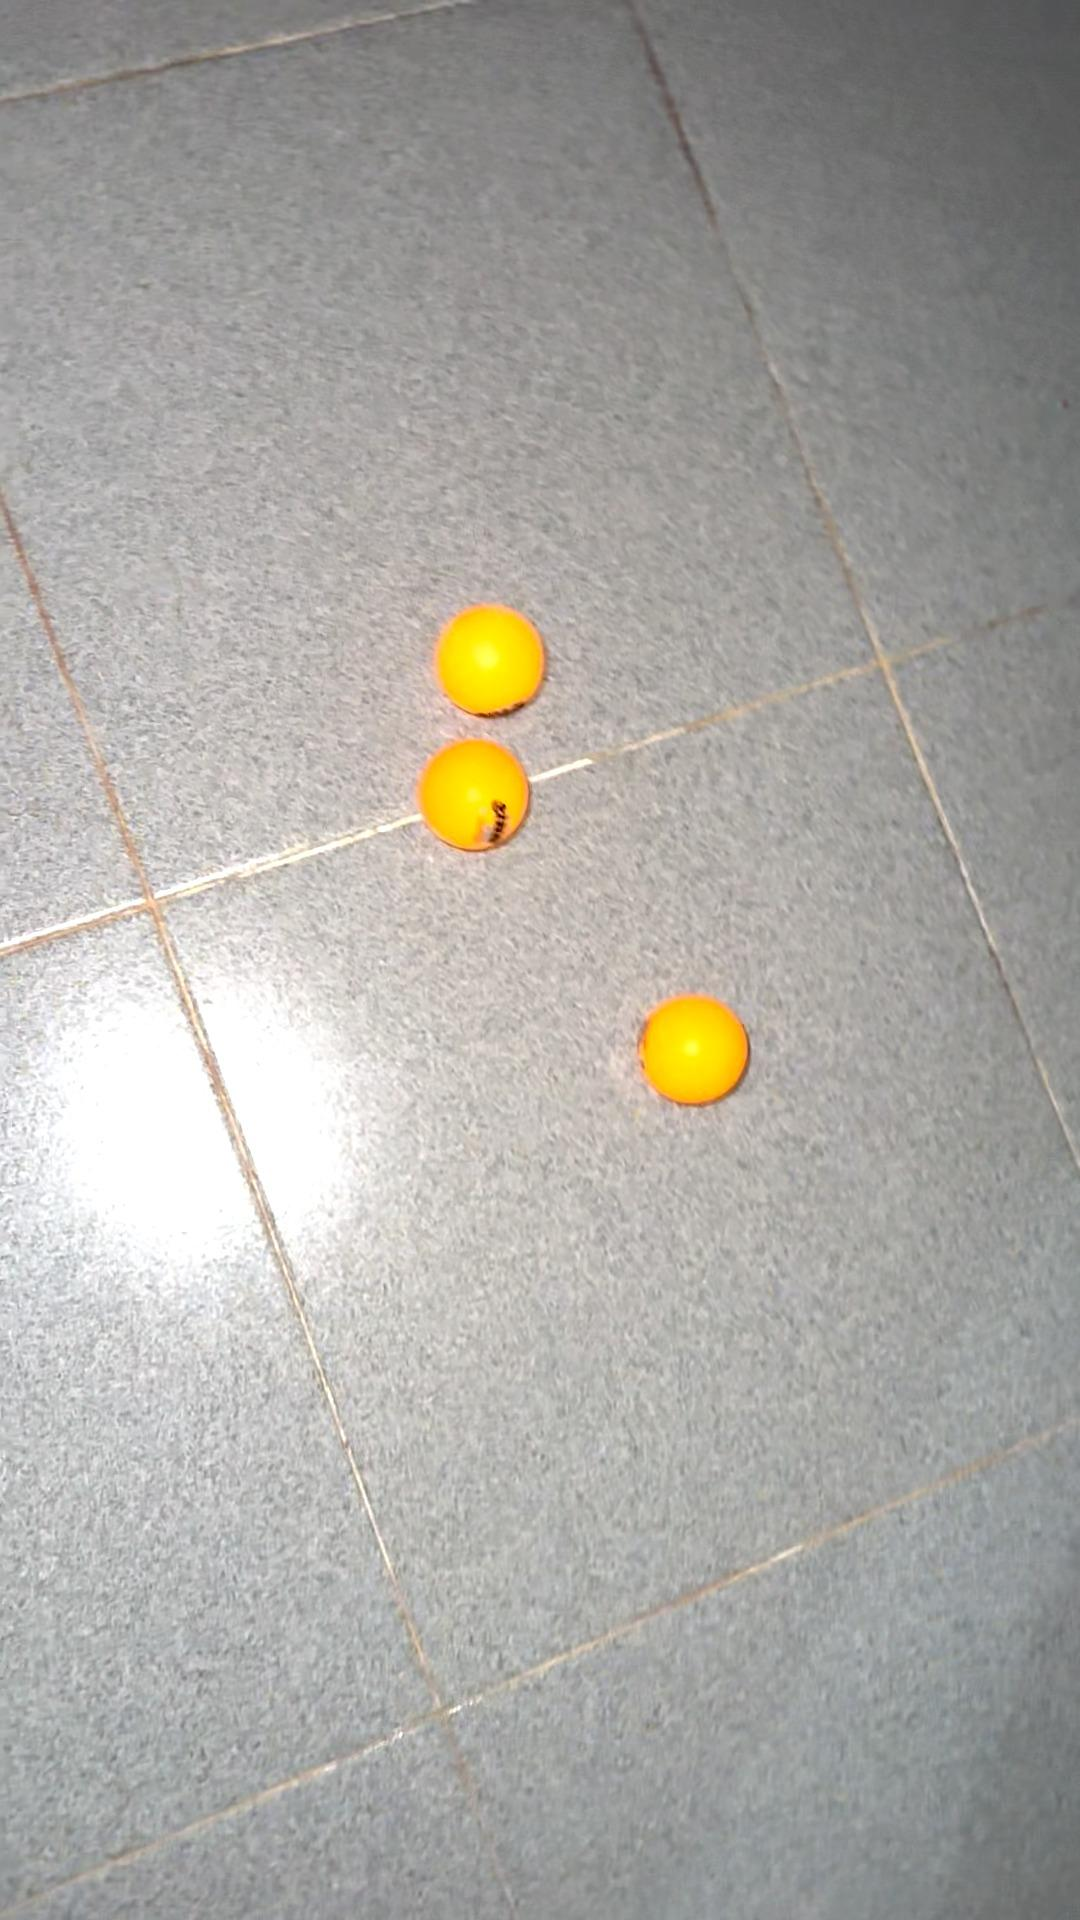oball: (434, 595, 559, 721), (418, 731, 539, 857), (634, 992, 764, 1110)
